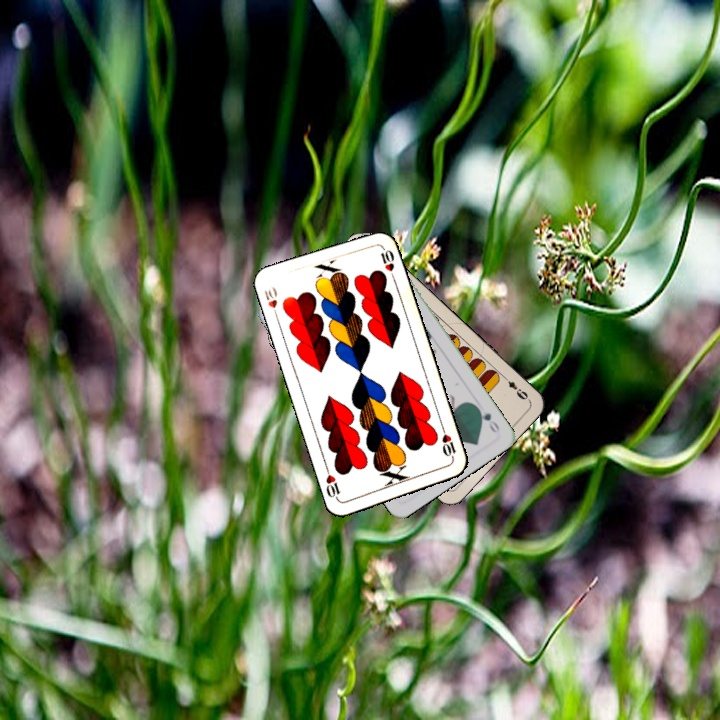E9: (499, 372, 532, 403)
GO: (472, 402, 502, 436)
H10: (260, 283, 281, 322), (438, 423, 458, 463)
